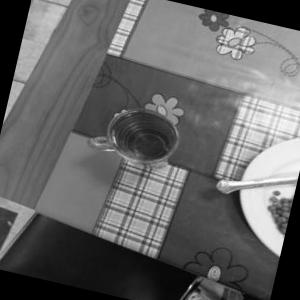tea: (79, 86, 222, 208)
